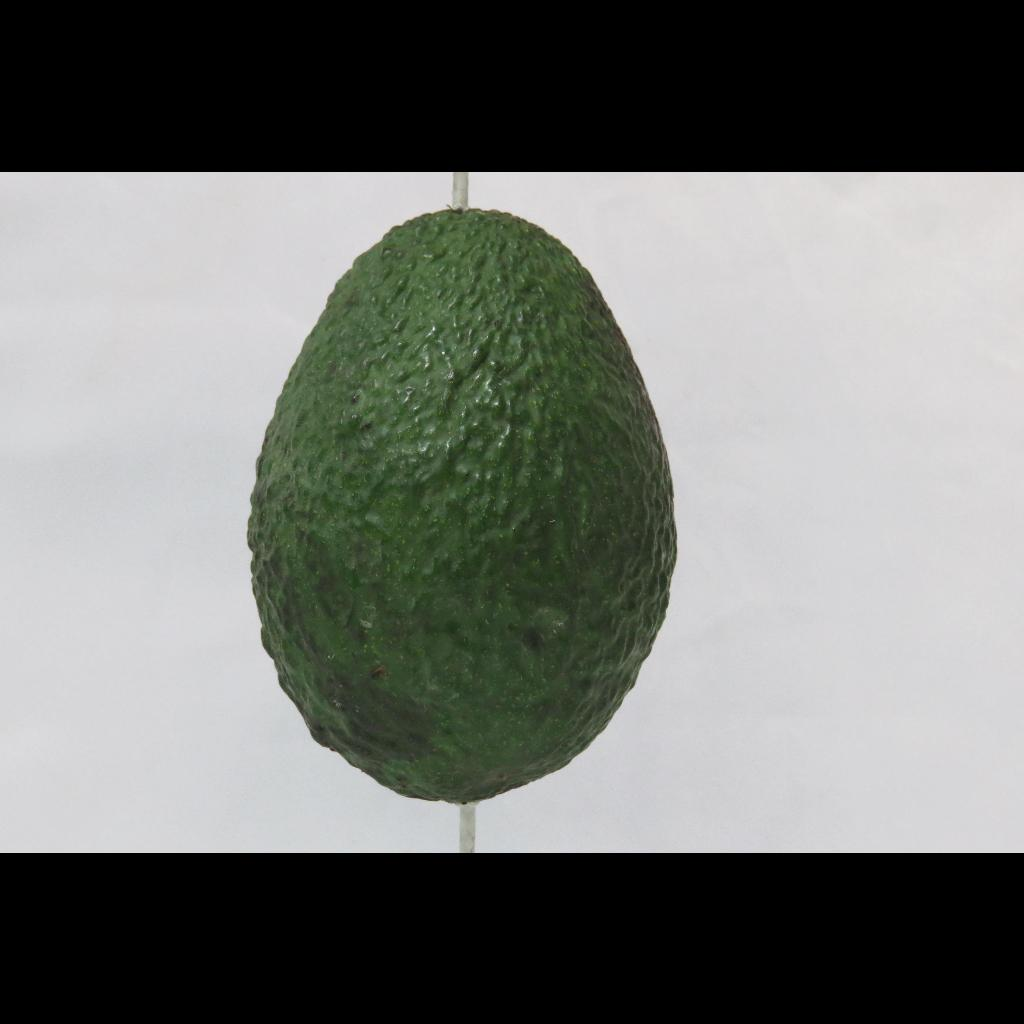fruto_sano: (217, 178, 731, 817)
